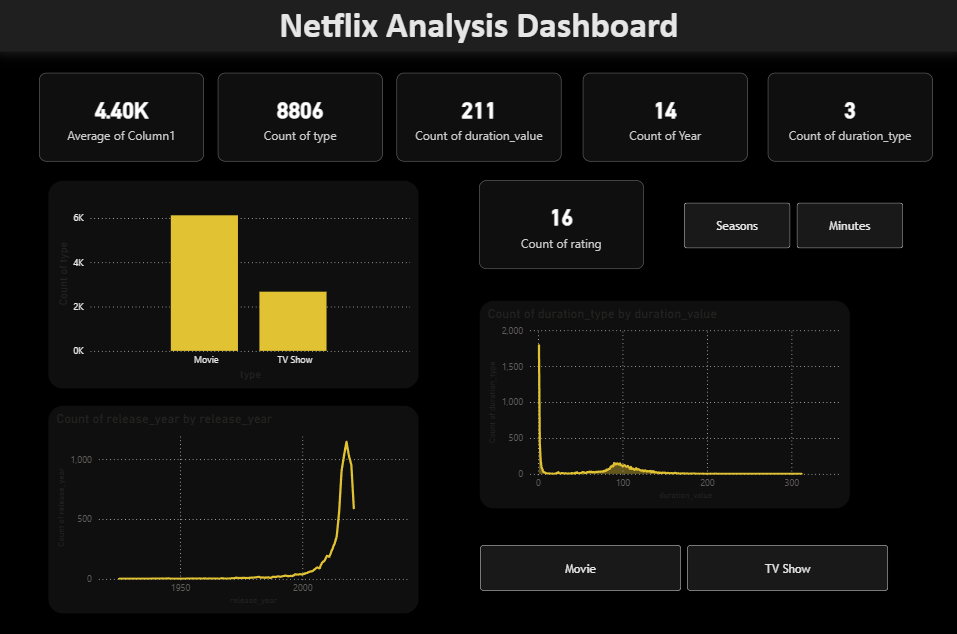

What the dashboard file says about the page in this screenshot:
{"tool":"powerbi","page":{"name":"Page 1","canvas":[1280,850],"ordinal":0},"visuals":[{"type":"card","fields":{"Values":["Avg(cleaned-data.Column1)"]},"box":[53.3,98.3,220,118.3],"z":0},{"type":"textbox","box":[0,0,1280,70],"z":1000},{"type":"columnChart","fields":{"Category":["cleaned-data.type"],"Y":["CountNonNull(cleaned-data.type)"]},"box":[65,241.7,495,278.3],"z":2000},{"type":"lineChart","fields":{"Category":["cleaned-data.release_year"],"Y":["CountNonNull(cleaned-data.release_year)"]},"box":[65,541.7,495,278.3],"z":3000},{"type":"areaChart","fields":{"Category":["cleaned-data.duration_value"],"Y":["CountNonNull(cleaned-data.duration_type)"]},"box":[640,401.7,495,278.3],"z":4000},{"type":"card","fields":{"Values":["CountNonNull(cleaned-data.type)"]},"box":[291.7,98.3,220,118.3],"z":5000},{"type":"card","fields":{"Values":["Count(cleaned-data.duration_value)"]},"box":[530,98.3,220,118.3],"z":6000},{"type":"card","fields":{"Values":["Count(cleaned-data.rating)"]},"box":[640,241.7,220,118.3],"z":7000},{"type":"card","fields":{"Values":["Count(cleaned-data.duration_type)"]},"box":[1025,98.3,220,118.3],"z":8000},{"type":"advancedSlicerVisual","fields":{"Values":["cleaned-data.type"]},"box":[616.7,723.3,595,71.7],"z":9000},{"type":"card","fields":{"Values":["Count(cleaned-data.date_added.Variation.Date Hierarchy.Year)"]},"box":[778.3,98.3,220,118.3],"z":10000},{"type":"advancedSlicerVisual","fields":{"Values":["cleaned-data.duration_type"]},"box":[888.3,266.7,343.3,71.7],"z":10001}]}

Visuals, with their boxes in screenshot pixels (x1, y1, x2, y2), scaled from the page's 1280x850 canvas onto the 957x634 screenshot:
card - Avg(cleaned-data.Column1): x1=40, y1=73, x2=204, y2=162
textbox: x1=0, y1=0, x2=956, y2=52
columnChart - cleaned-data.type x CountNonNull(cleaned-data.type): x1=49, y1=180, x2=419, y2=388
lineChart - cleaned-data.release_year x CountNonNull(cleaned-data.release_year): x1=49, y1=404, x2=419, y2=612
areaChart - cleaned-data.duration_value x CountNonNull(cleaned-data.duration_type): x1=478, y1=300, x2=849, y2=507
card - CountNonNull(cleaned-data.type): x1=218, y1=73, x2=383, y2=162
card - Count(cleaned-data.duration_value): x1=396, y1=73, x2=561, y2=162
card - Count(cleaned-data.rating): x1=478, y1=180, x2=643, y2=269
card - Count(cleaned-data.duration_type): x1=766, y1=73, x2=931, y2=162
advancedSlicerVisual - cleaned-data.type: x1=461, y1=539, x2=906, y2=593
card - Count(cleaned-data.date_added.Variation.Date Hierarchy.Year): x1=582, y1=73, x2=746, y2=162
advancedSlicerVisual - cleaned-data.duration_type: x1=664, y1=199, x2=921, y2=252
